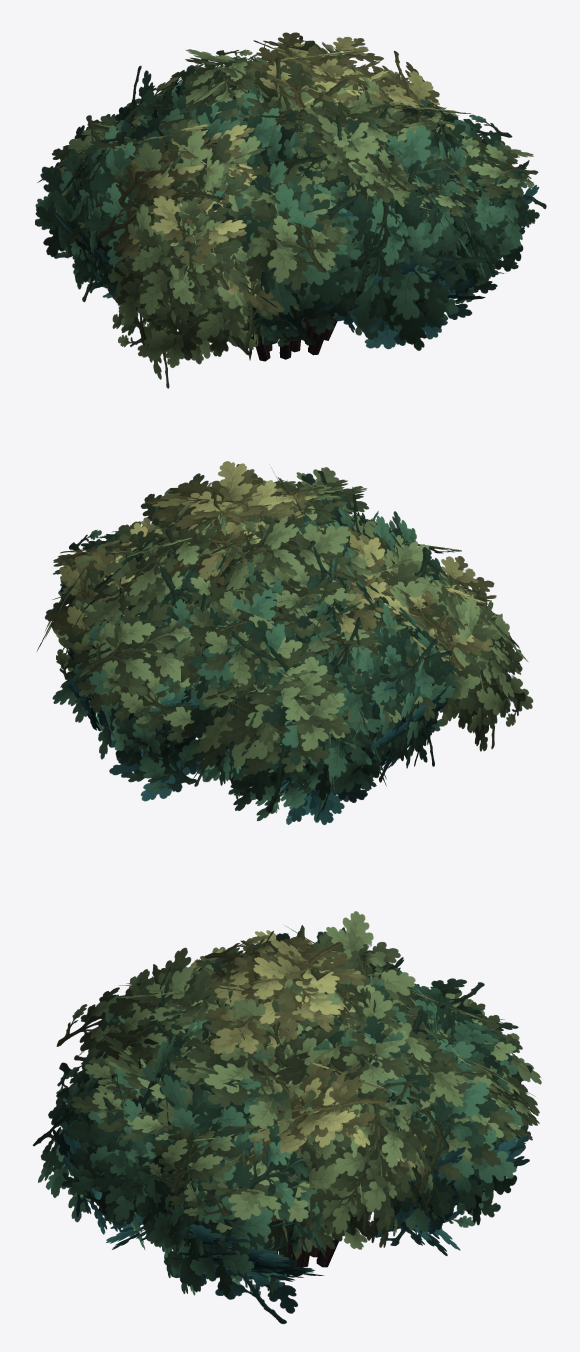
Rendered from shrub_tall.glb.
The picture shows the model from 3 angles, top to bottom: view 1: azimuth 30°, elevation 25°; view 2: azimuth 150°, elevation 25°; view 3: azimuth 270°, elevation 25°; orthographic projection. The views are drawn at different scales.
Visible parts, largest first — view 1: shrub_tall; view 2: shrub_tall; view 3: shrub_tall.
Boxes of the visible parts, bbox=[...] form: shrub_tall: bbox=[35, 32, 546, 388]; shrub_tall: bbox=[37, 461, 533, 824]; shrub_tall: bbox=[32, 911, 541, 1323].
Bounding box in the file's own units: 1.81 × 1.19 × 1.7.
Materials: 2 (2 with a texture image).
